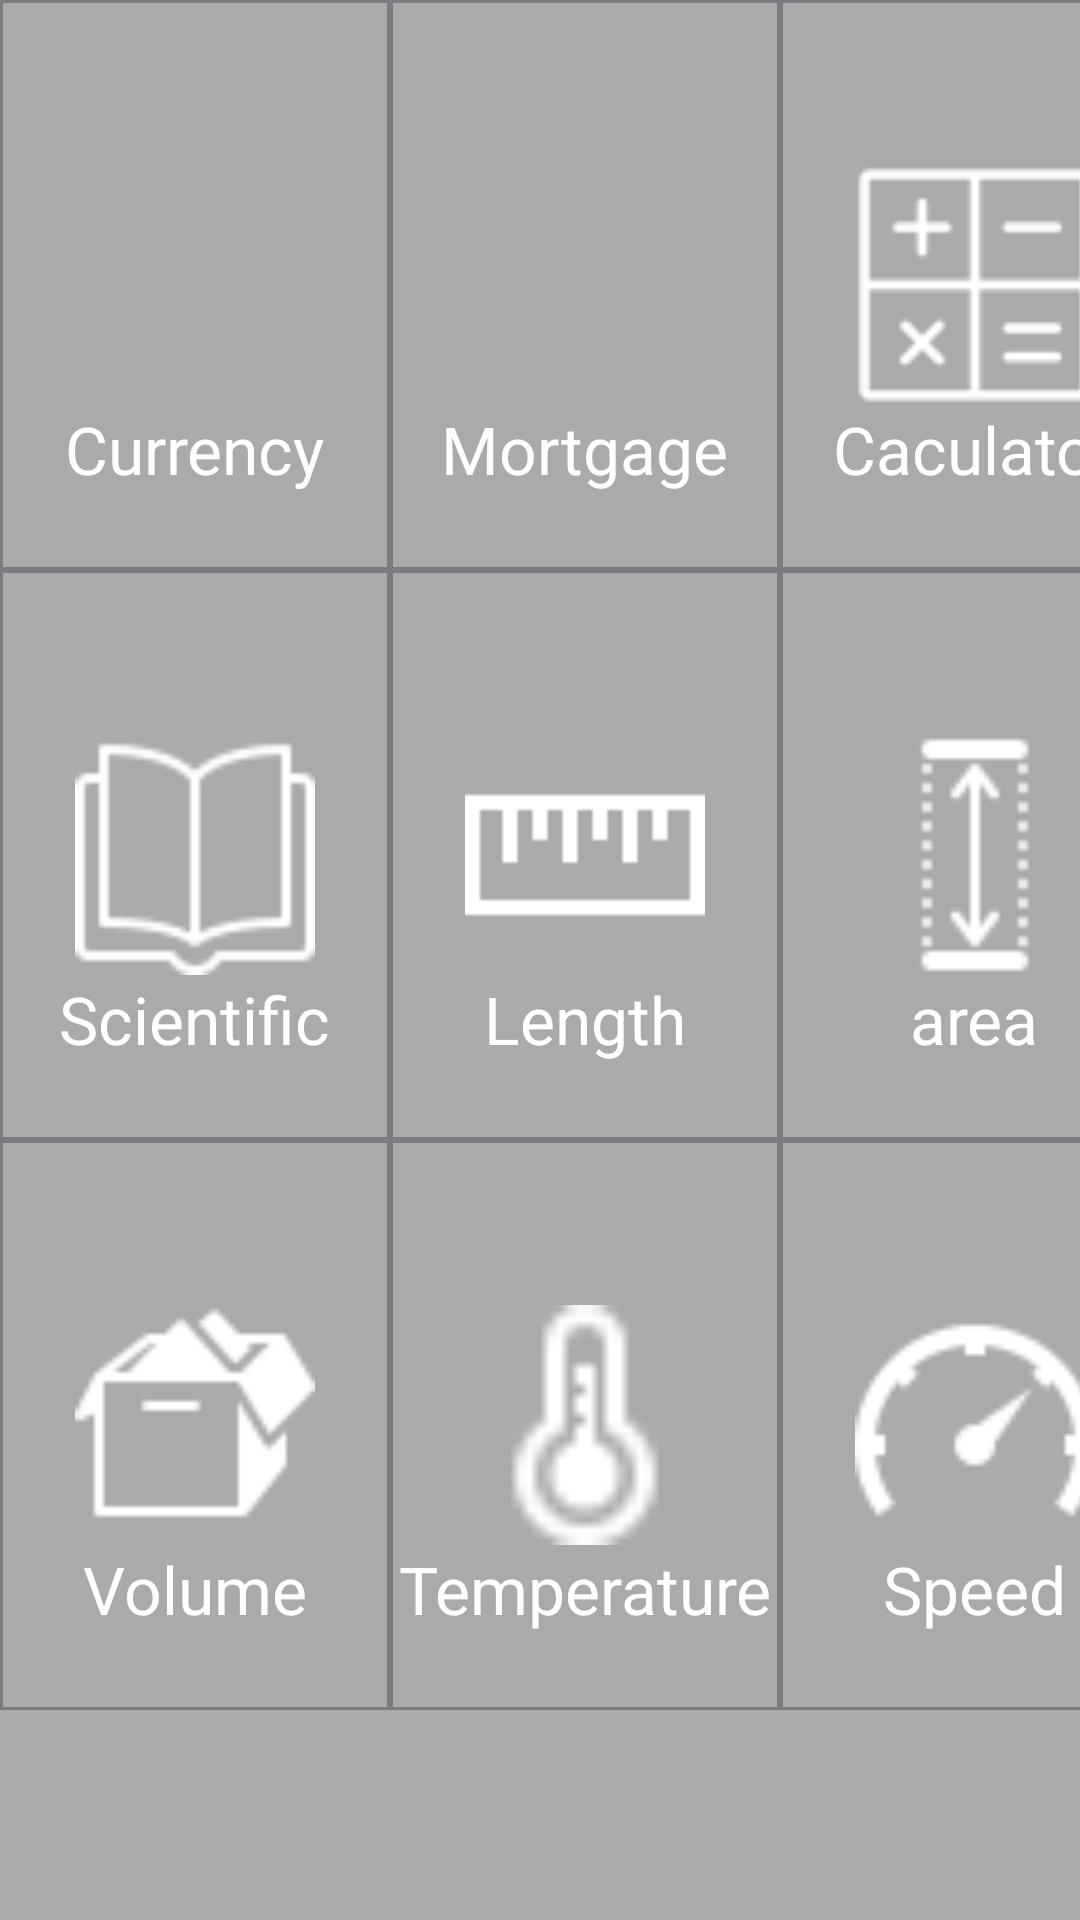

Icon bounding boxes for this 1080*1920 phone screenshot, format (x1, y1, x2, y2):
math: (858, 168, 1080, 402)
ruler: (465, 794, 705, 916)
thermometer: (513, 1305, 657, 1545)
